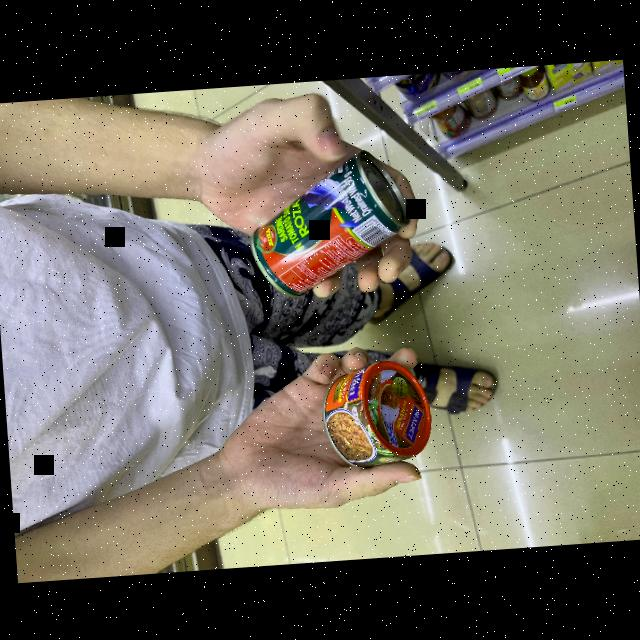can: (233, 148, 428, 302), (313, 342, 444, 483)
